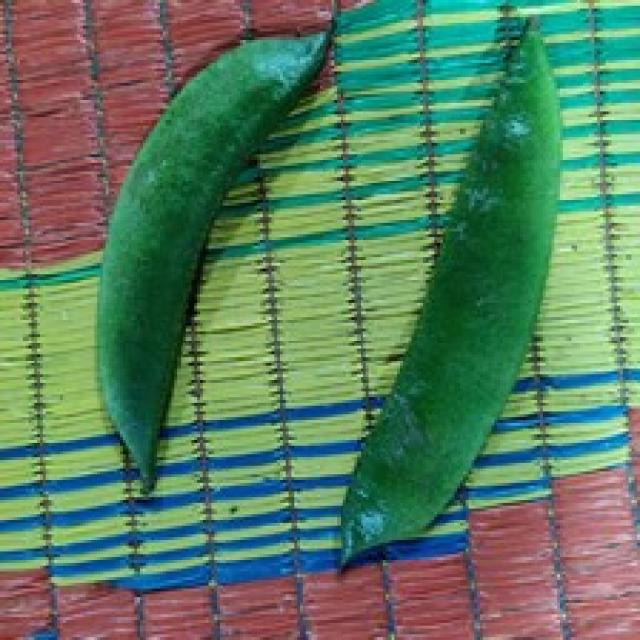Bean: (334, 9, 560, 572), (94, 6, 337, 494)
